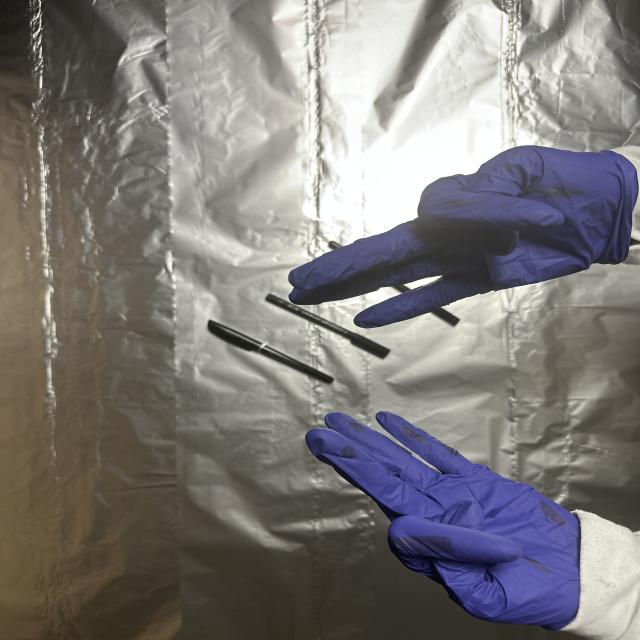gloves_contaminated: (289, 146, 638, 328), (306, 411, 581, 630)
